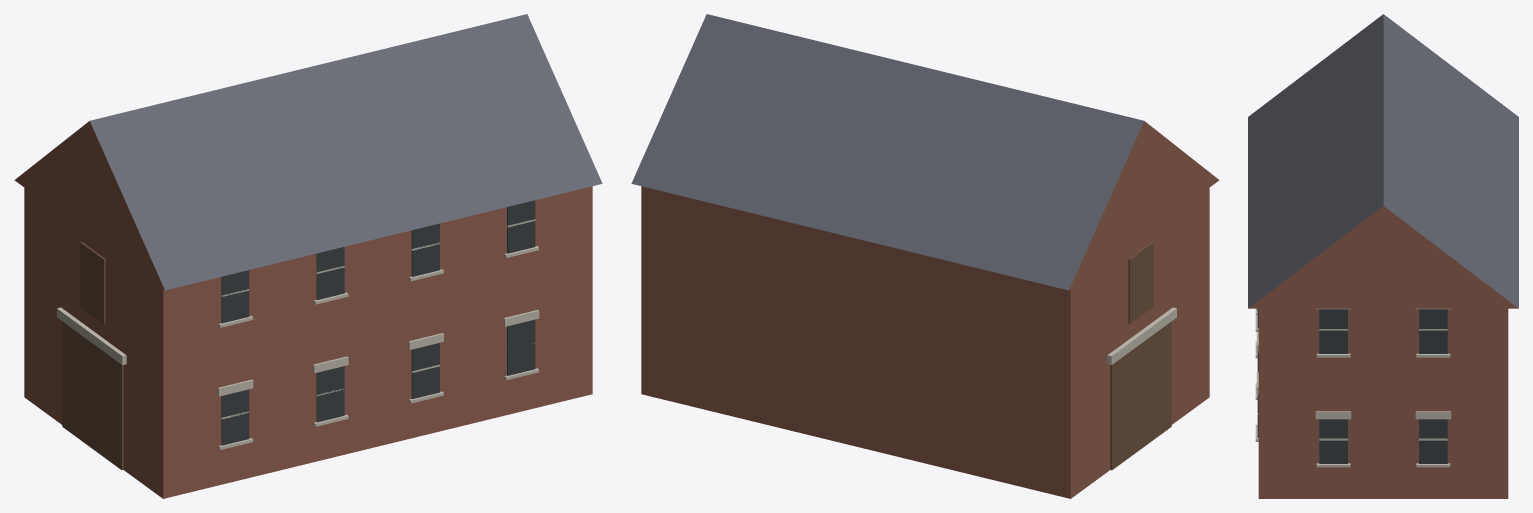
Rendered from mayer_house_2009_prairie_coach_house__draft_1904.glb.
3 views of the same model, side by side, from view 1: azimuth 30°, elevation 25°; view 2: azimuth 150°, elevation 25°; view 3: azimuth 270°, elevation 25° (orthographic). The views are drawn at different scales.
Visible parts, largest first — view 1: mayer_house_2009_prairie_coach_house__draft_1904; view 2: mayer_house_2009_prairie_coach_house__draft_1904; view 3: mayer_house_2009_prairie_coach_house__draft_1904.
Boxes of the visible parts, x1,y1,x2,y2 form: mayer_house_2009_prairie_coach_house__draft_1904: (14, 14, 602, 498); mayer_house_2009_prairie_coach_house__draft_1904: (631, 14, 1219, 498); mayer_house_2009_prairie_coach_house__draft_1904: (1248, 14, 1518, 498).
Size of the model in its own units: 12.74 by 9.14 by 7.6.
